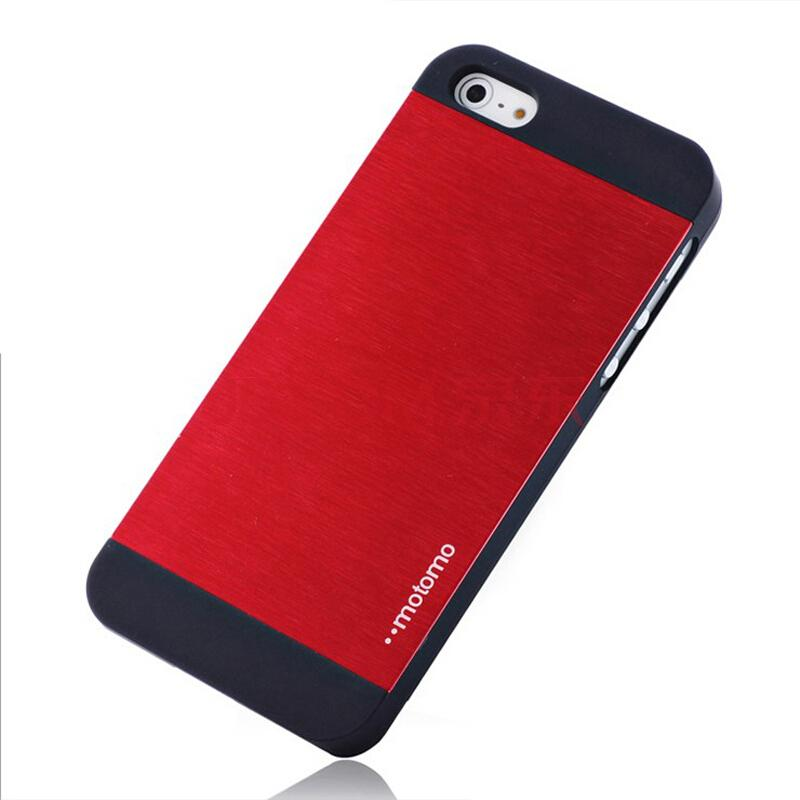phone: (89, 41, 728, 757)
